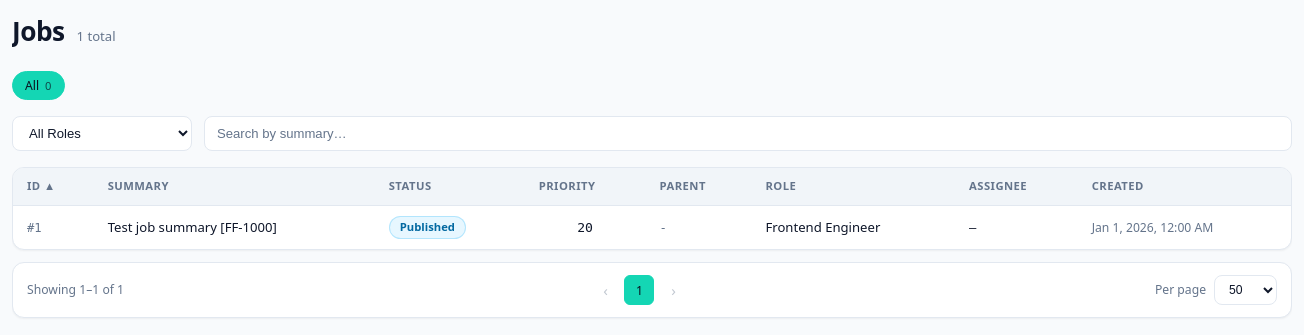
Test: JobListPage › interactions › toggles sort direction when clicking the same sortable header
The width and height of the screenshot is (1304, 335).
# Click the ID header — should toggle to desc
Click the column heading "ID ▲" at (53, 187), box 13,168 -> 94,206
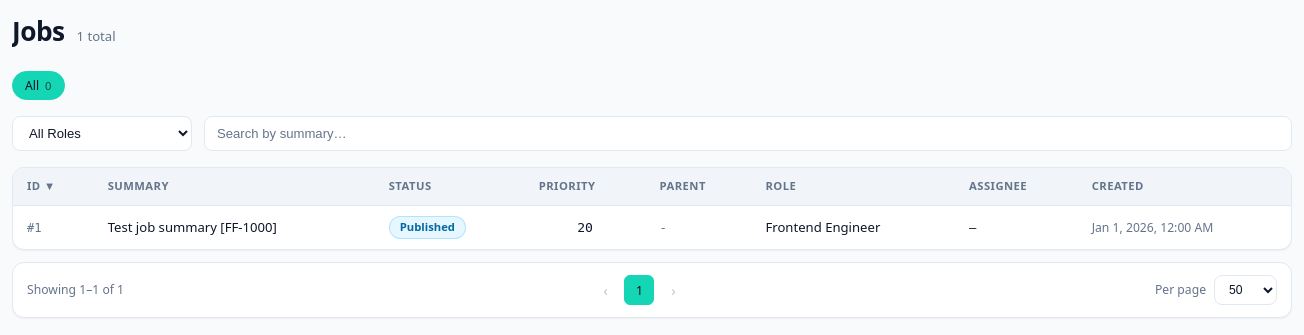
expect the column heading "ID ▼" is shown: met, box 13,168 -> 94,206
